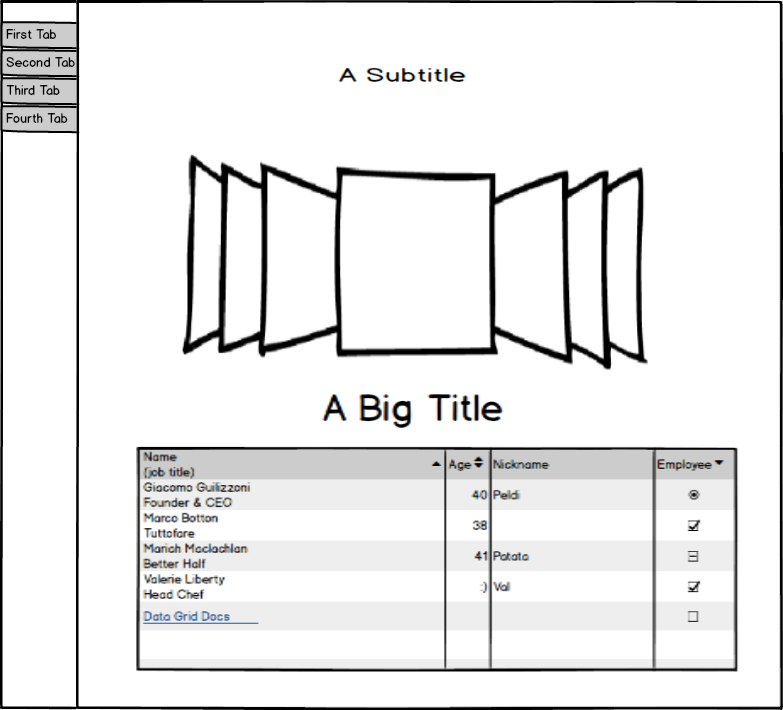h1: (321, 386, 510, 431), (330, 60, 476, 94)
sidebar: (1, 14, 87, 142)
slideshow: (172, 151, 650, 373)
table: (133, 441, 742, 675)
